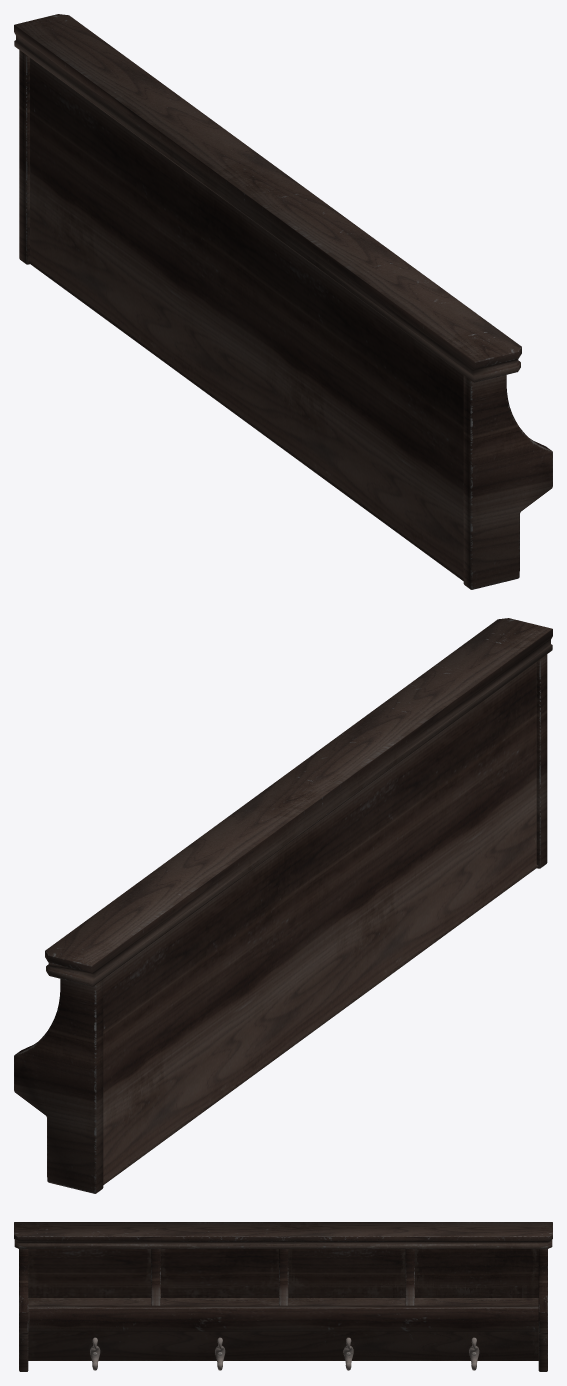
3 renders of one model, top to bottom at view 1: azimuth 30°, elevation 25°; view 2: azimuth 150°, elevation 25°; view 3: azimuth 270°, elevation 25°, orthographic. The views are drawn at different scales.
Visible parts, largest first — view 1: SM_ CoatRack_01_A; view 2: SM_ CoatRack_01_A; view 3: SM_ CoatRack_01_A.
Boxes of the visible parts, x1,y1,x2,y2 form: SM_ CoatRack_01_A: [14, 14, 552, 589]; SM_ CoatRack_01_A: [14, 618, 552, 1193]; SM_ CoatRack_01_A: [14, 1222, 552, 1371].
Bounding box in the file's own units: 0.1254 × 0.3401 × 1.2.
Materials: 1 (1 with a texture image).
